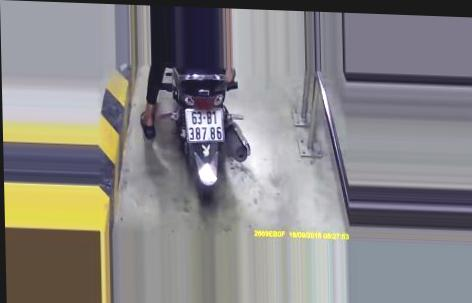License_Plate: (181, 106, 229, 144)
